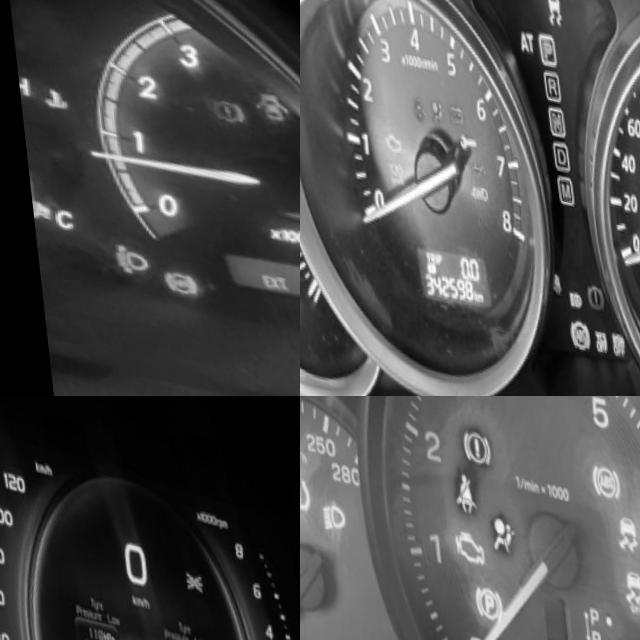Seat Belt: (445, 451, 473, 501)
